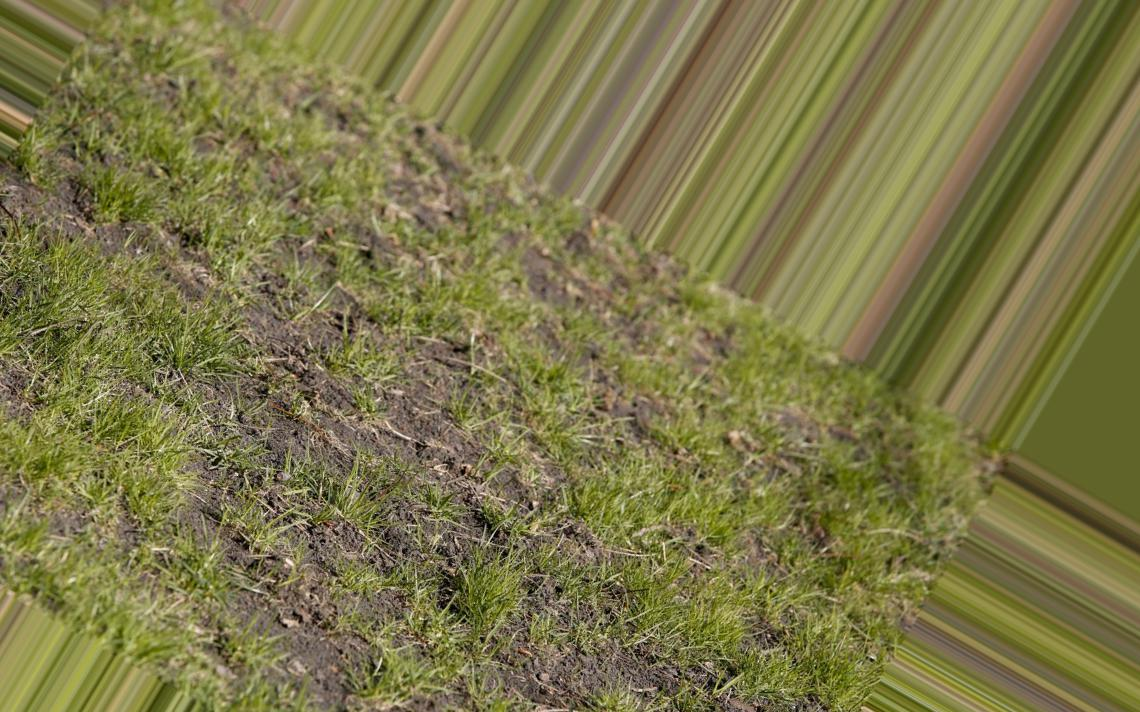patch: (556, 625, 669, 712), (328, 581, 408, 701), (241, 575, 306, 675), (415, 409, 473, 453), (323, 412, 373, 444)
